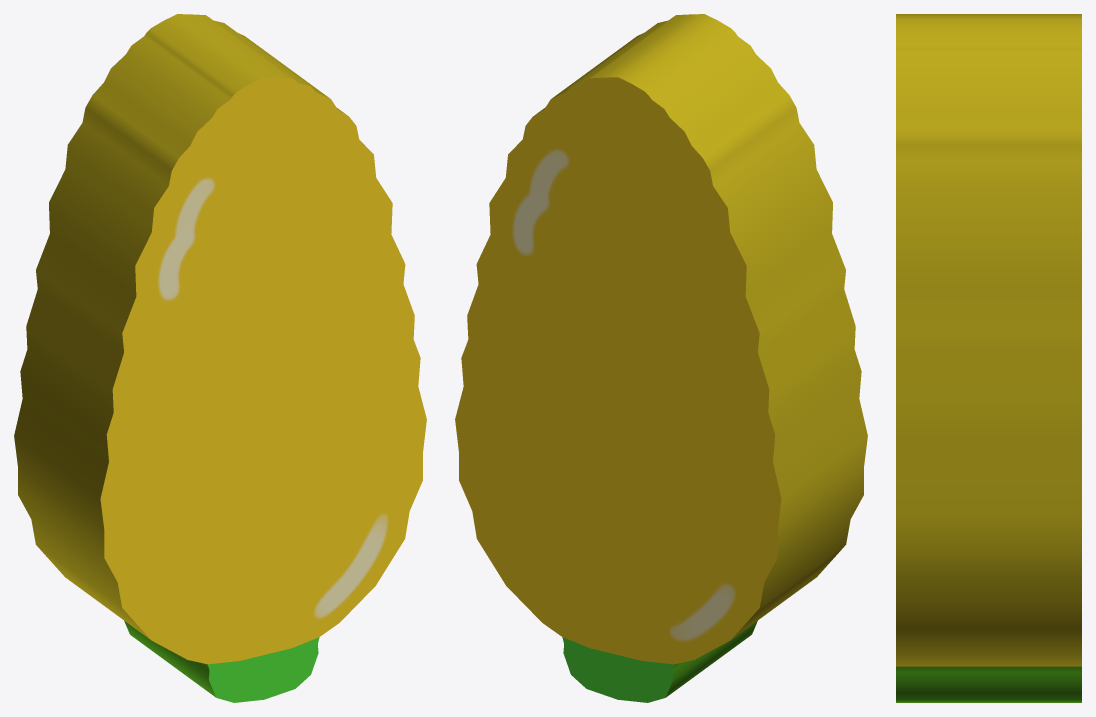
The model's file is mesh_Corn_v1.0.fbx.
The picture shows the model from 3 angles, left to right: view 1: azimuth 30°, elevation 25°; view 2: azimuth 150°, elevation 25°; view 3: azimuth 270°, elevation 25°; orthographic projection. The views are drawn at different scales.
Visible parts, largest first — view 1: pCube14; view 2: pCube14; view 3: pCube14.
Boxes of the visible parts, bbox=[...] form: pCube14: bbox=[14, 14, 426, 702]; pCube14: bbox=[455, 14, 867, 702]; pCube14: bbox=[896, 14, 1081, 702].
Bounding box in the file's own units: 63.45 × 116 × 29.08.
